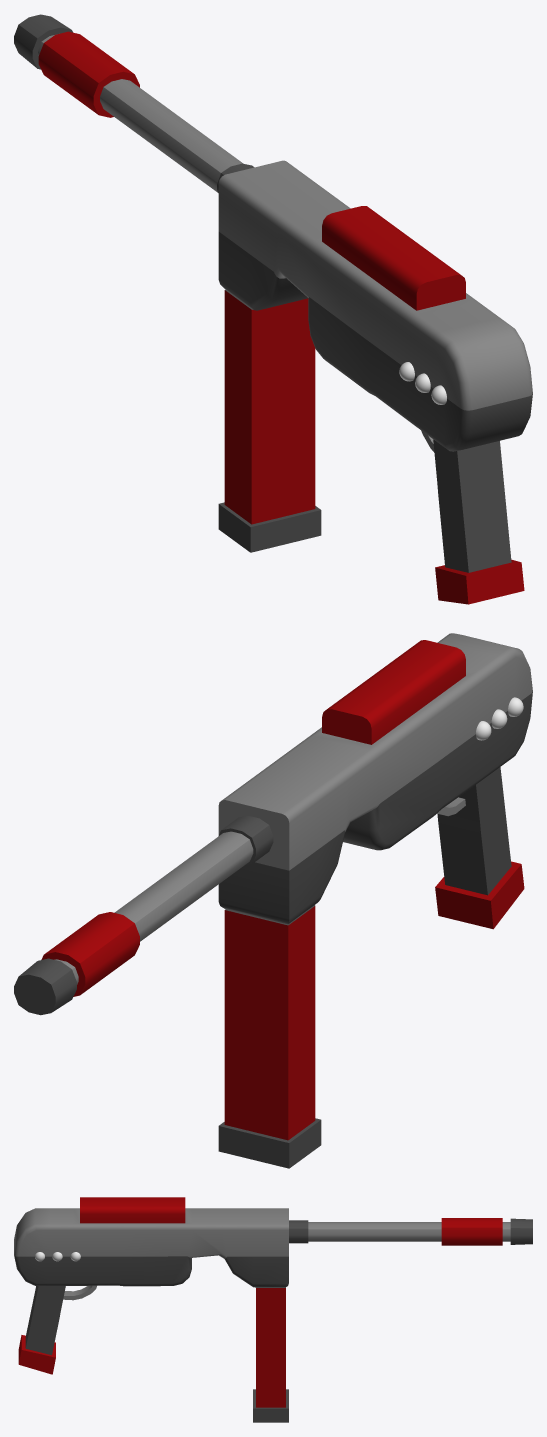
File: gun2.fbx
3 renders of one model, top to bottom at view 1: azimuth 30°, elevation 25°; view 2: azimuth 150°, elevation 25°; view 3: azimuth 270°, elevation 25°, orthographic. The views are drawn at different scales.
Parts seen in each view (by area): view 1: Cube.004; view 2: Cube.004; view 3: Cube.004.
Boxes of the visible parts, x1,y1,x2,y2 form: Cube.004: [14, 14, 532, 604]; Cube.004: [14, 633, 532, 1168]; Cube.004: [14, 1197, 532, 1422].
Size of the model in its own units: 193 by 816 by 1818.
